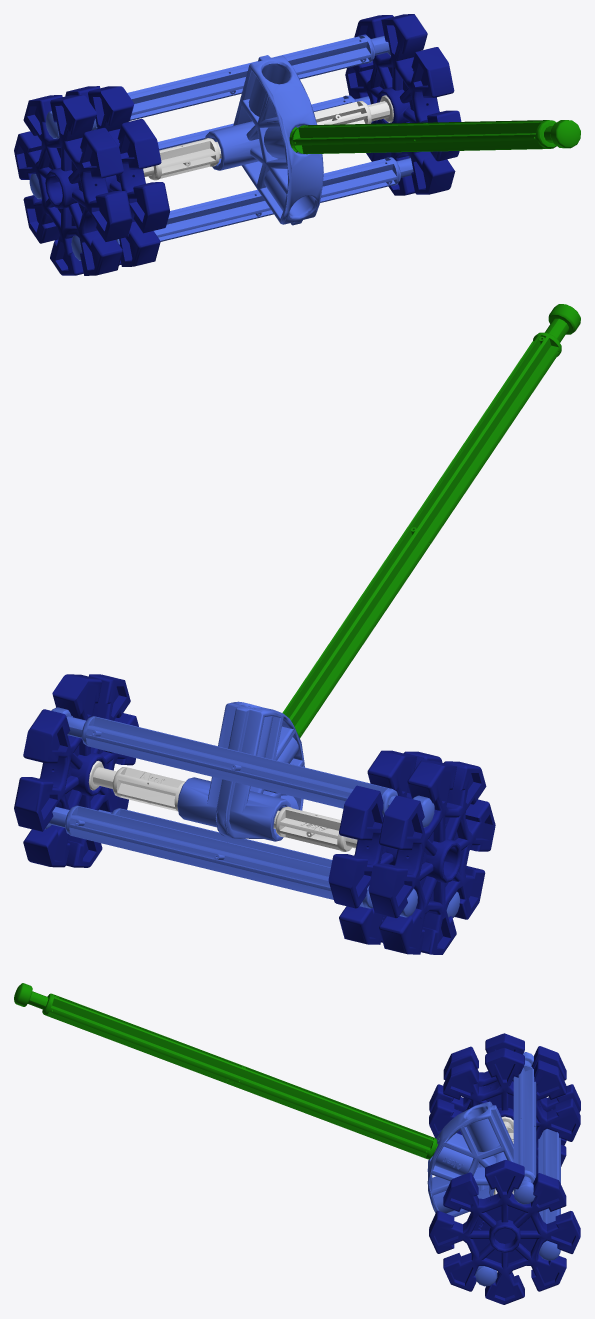
The picture shows the model from 3 angles, top to bottom: view 1: azimuth 30°, elevation 25°; view 2: azimuth 150°, elevation 25°; view 3: azimuth 270°, elevation 25°; orthographic projection. The views are drawn at different scales.
Visible parts, largest first — view 1: K2_L03.002, K2_L03, K2_L03.001, K2_L03.004, K2_L03.003; view 2: K2_L03.002, K2_L03, K2_L03.001, K2_L03.003, K2_L03.004; view 3: K2_L03.002, K2_L03, K2_L03.001.
Boxes of the visible parts, x1,y1,x2,y2 form: K2_L03.002: [14, 14, 461, 275]; K2_L03: [29, 35, 413, 260]; K2_L03.001: [289, 120, 580, 154]; K2_L03.004: [143, 138, 221, 180]; K2_L03.003: [314, 95, 393, 124]; K2_L03.002: [14, 674, 495, 954]; K2_L03: [45, 701, 459, 917]; K2_L03.001: [282, 304, 580, 737]; K2_L03.003: [88, 760, 185, 811]; K2_L03.004: [273, 806, 357, 851]; K2_L03.002: [429, 1033, 580, 1304]; K2_L03: [427, 1052, 560, 1286]; K2_L03.001: [14, 983, 437, 1159].
Size of the model in its own units: 1.47 by 1.27 by 2.5.
